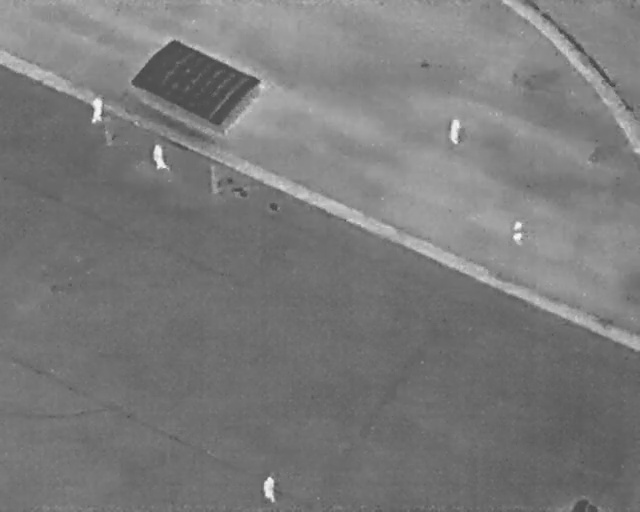Person: (147, 141, 173, 175), (445, 115, 464, 147), (262, 474, 278, 504), (510, 218, 526, 247), (88, 96, 104, 123)
